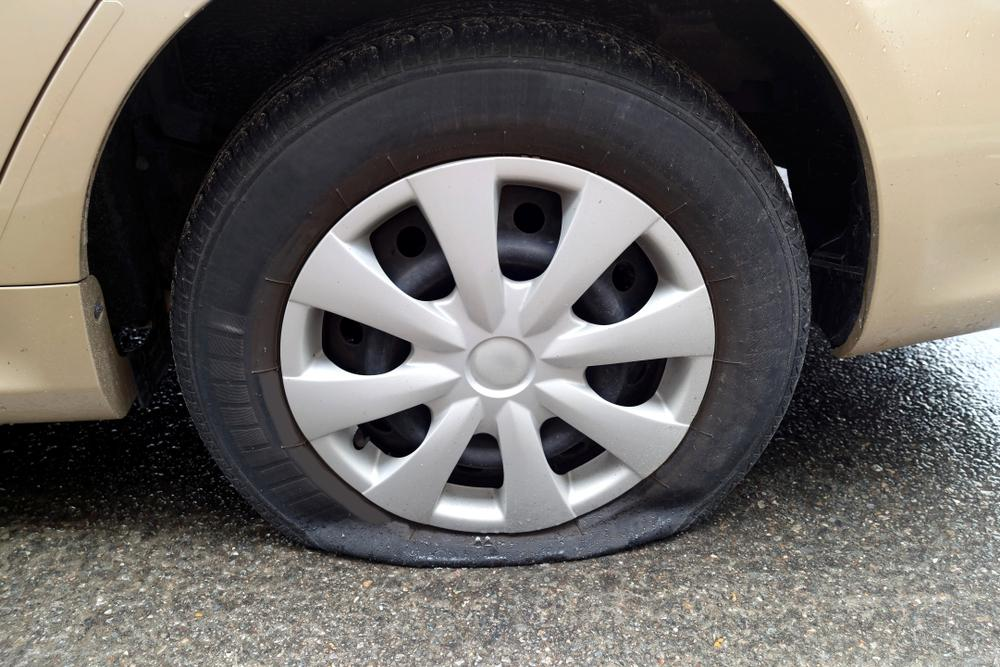tire flat: (169, 0, 815, 566)
